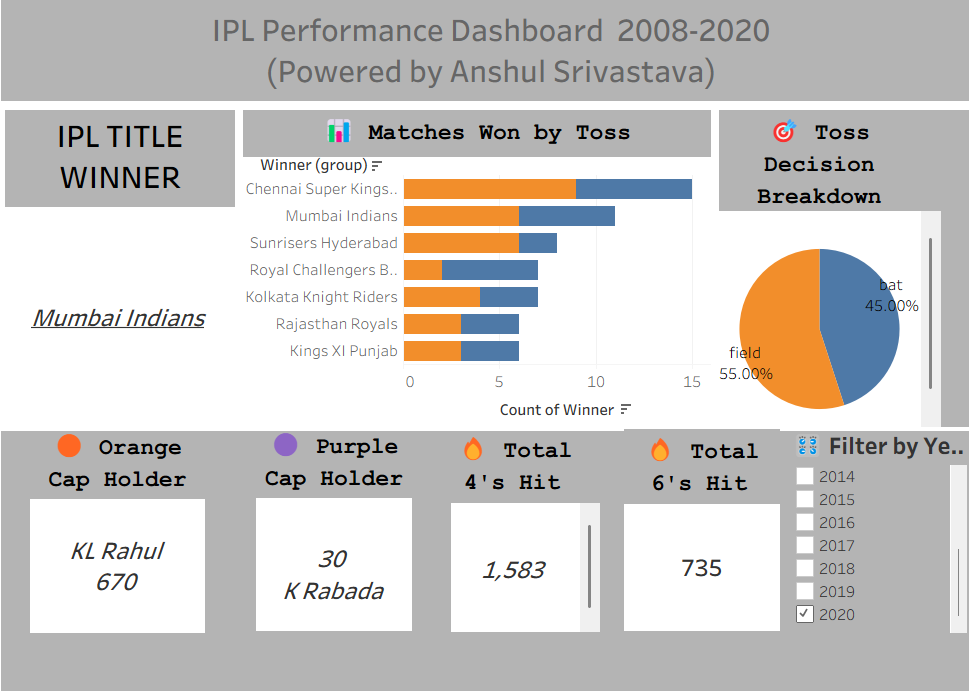

The page's visual inventory and layout, read from the dashboard file:
{"tool":"tableau","page":{"name":"IPL Insights Dashboard (2008–2020)","canvas":[1000,800],"ordinal":0},"visuals":[{"type":"dashboard-object","box":[8,8,984,52]},{"type":"text","box":[8,9,980,103]},{"type":"worksheet","title":"IPL TITLE WINNER","mark":"Text","box":[8,117,238,325]},{"type":"worksheet","title":"MATCHES WON AS PER TOSS","mark":"Automatic","cols":["winner"],"box":[246,117,476,325]},{"type":"worksheet","title":"% OF WINNING TOSS","mark":"Pie","box":[722,117,270,325]},{"type":"worksheet","title":"PURPLE CAP","mark":"Automatic","box":[263,435,156,207]},{"type":"worksheet","title":"ORANGE CAP","mark":"Text","box":[37,436,175,208]},{"type":"blank","box":[244,438,184,204]},{"type":"blank","box":[609,438,203,199]},{"type":"worksheet","title":"4 's","mark":"Automatic","box":[458,439,165,204]},{"type":"worksheet","title":"6's","mark":"Automatic","box":[631,440,156,202]},{"type":"filter","title":"ORANGE CAP","param":"[federated.1t8xvzx1vfz12310cxgv71bygkwr].[yr:date:ok]","box":[796,440,178,204]}]}

Visuals, with their boxes on the page's 1000x800 design canvas (x1, y1, x2, y2). These are canvas units, not pixel positions in the 969x691 screenshot, which may show the page scaled, cropped or inside an application window:
dashboard-object: <region>8, 8, 992, 60</region>
text: <region>8, 9, 988, 112</region>
"IPL TITLE WINNER" worksheet (Text marks): <region>8, 117, 246, 442</region>
"MATCHES WON AS PER TOSS" worksheet: <region>246, 117, 722, 442</region>
"% OF WINNING TOSS" worksheet (Pie marks): <region>722, 117, 992, 442</region>
"PURPLE CAP" worksheet: <region>263, 435, 419, 642</region>
"ORANGE CAP" worksheet (Text marks): <region>37, 436, 212, 644</region>
blank: <region>244, 438, 428, 642</region>
blank: <region>609, 438, 812, 637</region>
"4 's" worksheet: <region>458, 439, 623, 643</region>
"6's" worksheet: <region>631, 440, 787, 642</region>
"ORANGE CAP" filter: <region>796, 440, 974, 644</region>
